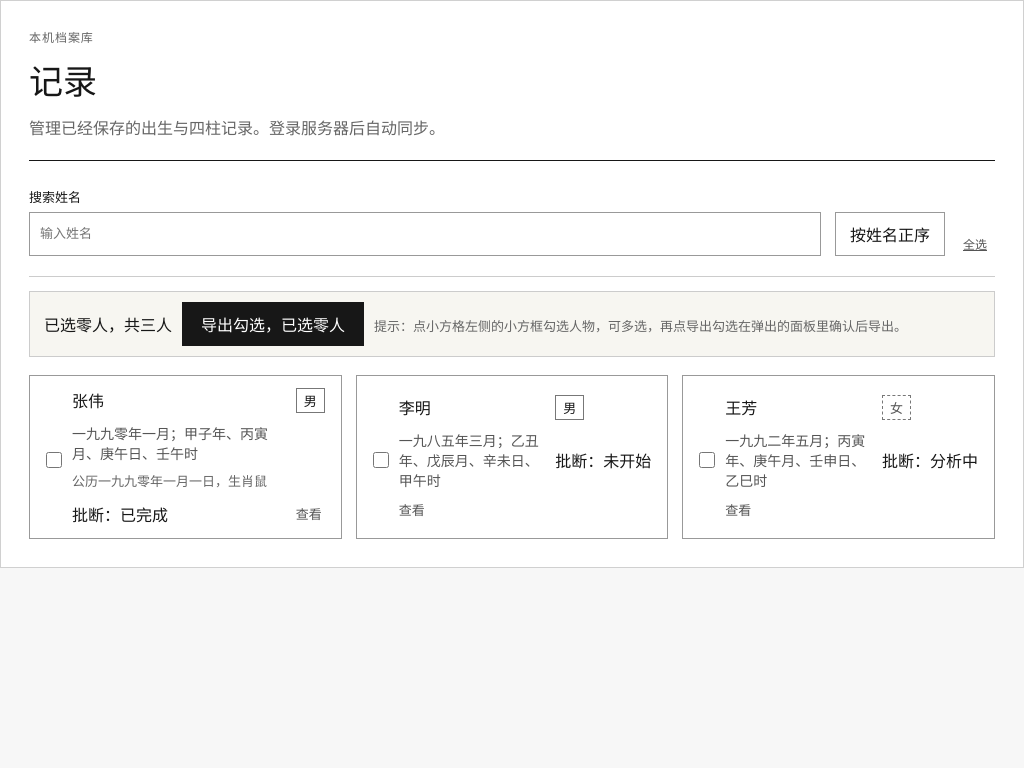
Test case: RecordsPage › searches by name without category filters
Expected: the text "张伟" is shown, [72,393,104,410]
Step 1. Type "芳" into the search field labelled "搜索姓名" → (425, 234), box [29,212,821,256]
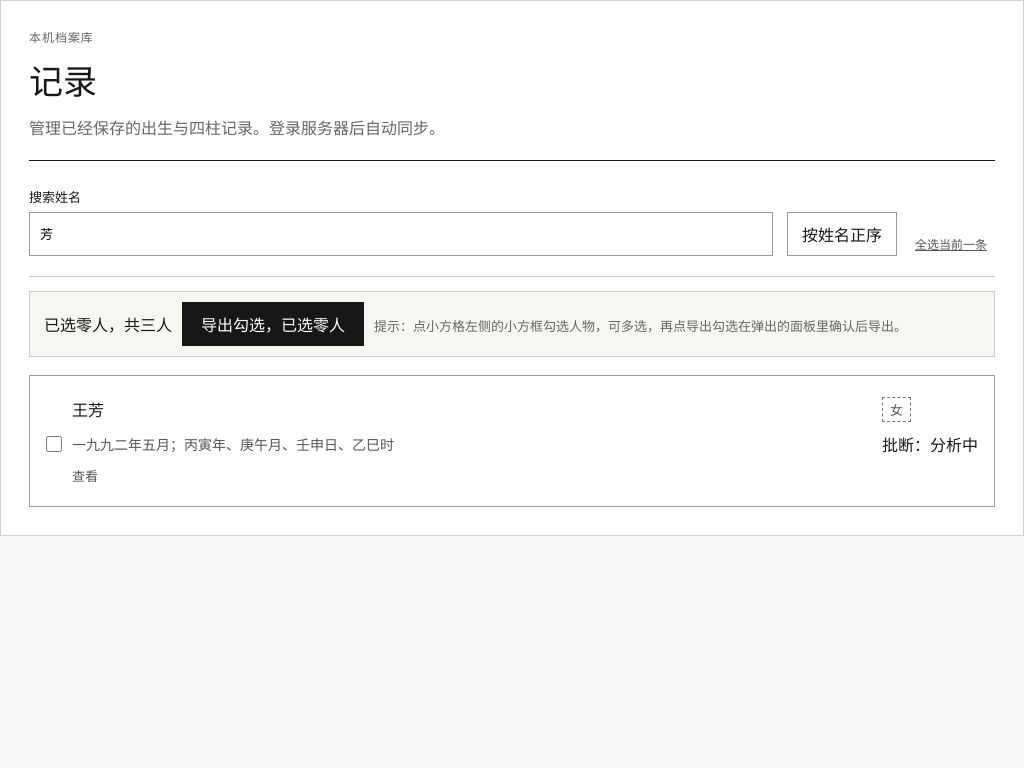
Expected: the text "王芳" is shown, [72,402,104,419]
Expected: the button "张伟" is gone
